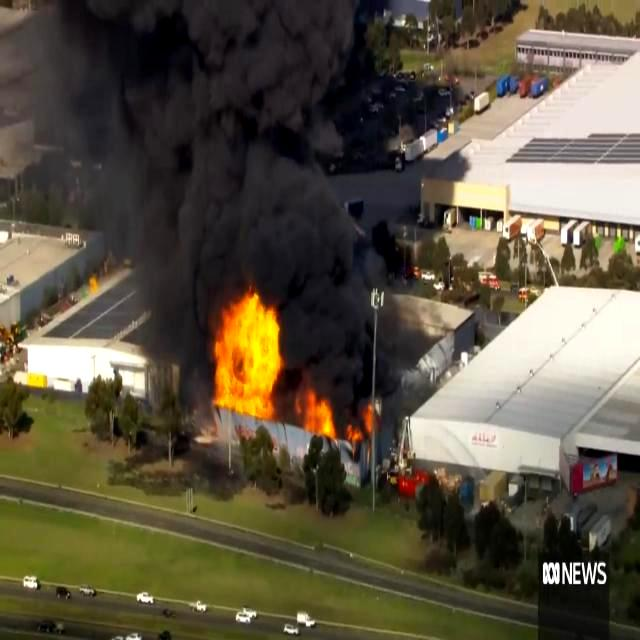fire: (200, 285, 288, 435), (302, 387, 346, 443)
